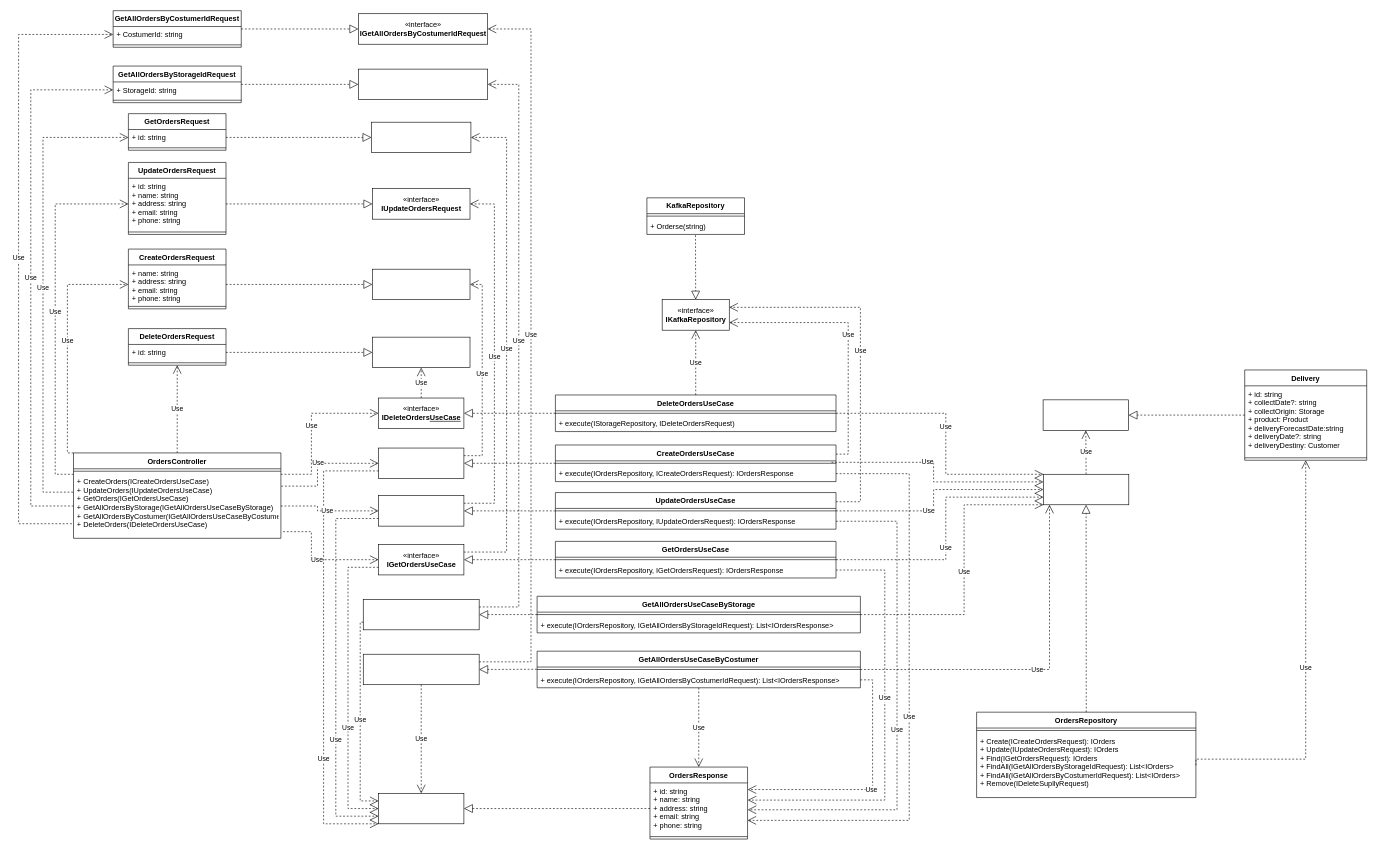
Image size: 1377x850. Some labels were removed from this diagram. Here are the shapes that lost their labels. From the top down, the centre of each, then its label:
point 423,84: «interface» IGetAllOrdersByStorageIdRequest
point 421,137: «interface» IGetOrdersRequest
point 421,284: «interface» ICreateOrdersRequest
point 421,352: «interface» IDeleteOrdersRequest
point 1085,414: «interface» IDelivery
point 421,463: «interface» ICreateOrdersUseCase
point 1086,489: «interface» IOrdersRepository
point 421,510: «interface» IUpdateOrdersUseCase
point 421,614: «interface» IGetAllOrdersUseCaseByStorage
point 421,669: «interface» IGetAllOrdersUseCaseByCostumer
point 421,808: «interface» IOrdersResponse
